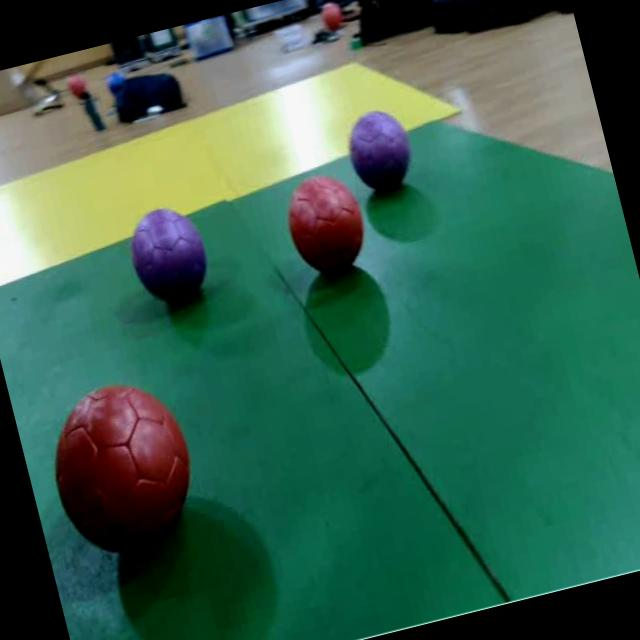purple_ball: (122, 198, 216, 308), (340, 102, 421, 202)
red_ball: (36, 368, 212, 575), (278, 168, 374, 282)
